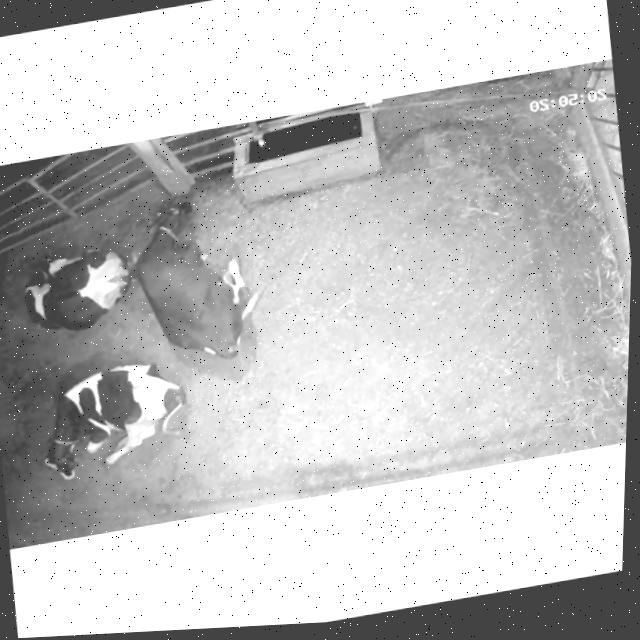lay: (116, 181, 278, 376), (17, 347, 193, 489), (8, 230, 141, 345)
